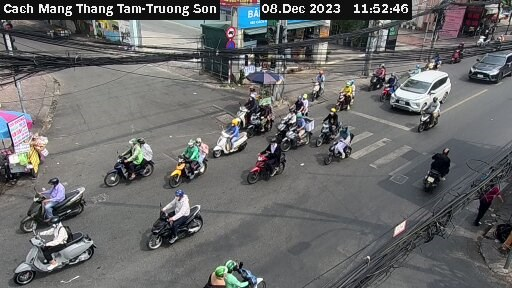car: (391, 65, 451, 119), (468, 45, 512, 88)
motorbike: (8, 225, 100, 282), (143, 194, 217, 249), (18, 176, 95, 221), (93, 135, 156, 188), (167, 138, 220, 185), (249, 136, 292, 187), (418, 149, 458, 197), (209, 255, 264, 288), (209, 114, 246, 158), (330, 79, 361, 115), (226, 93, 261, 124), (415, 101, 446, 134), (306, 71, 333, 97)
